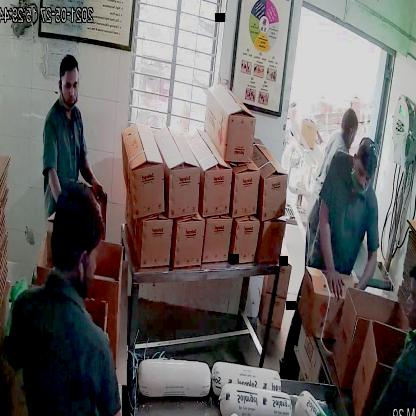no_goggles: (55, 72, 82, 97), (350, 161, 378, 185)
